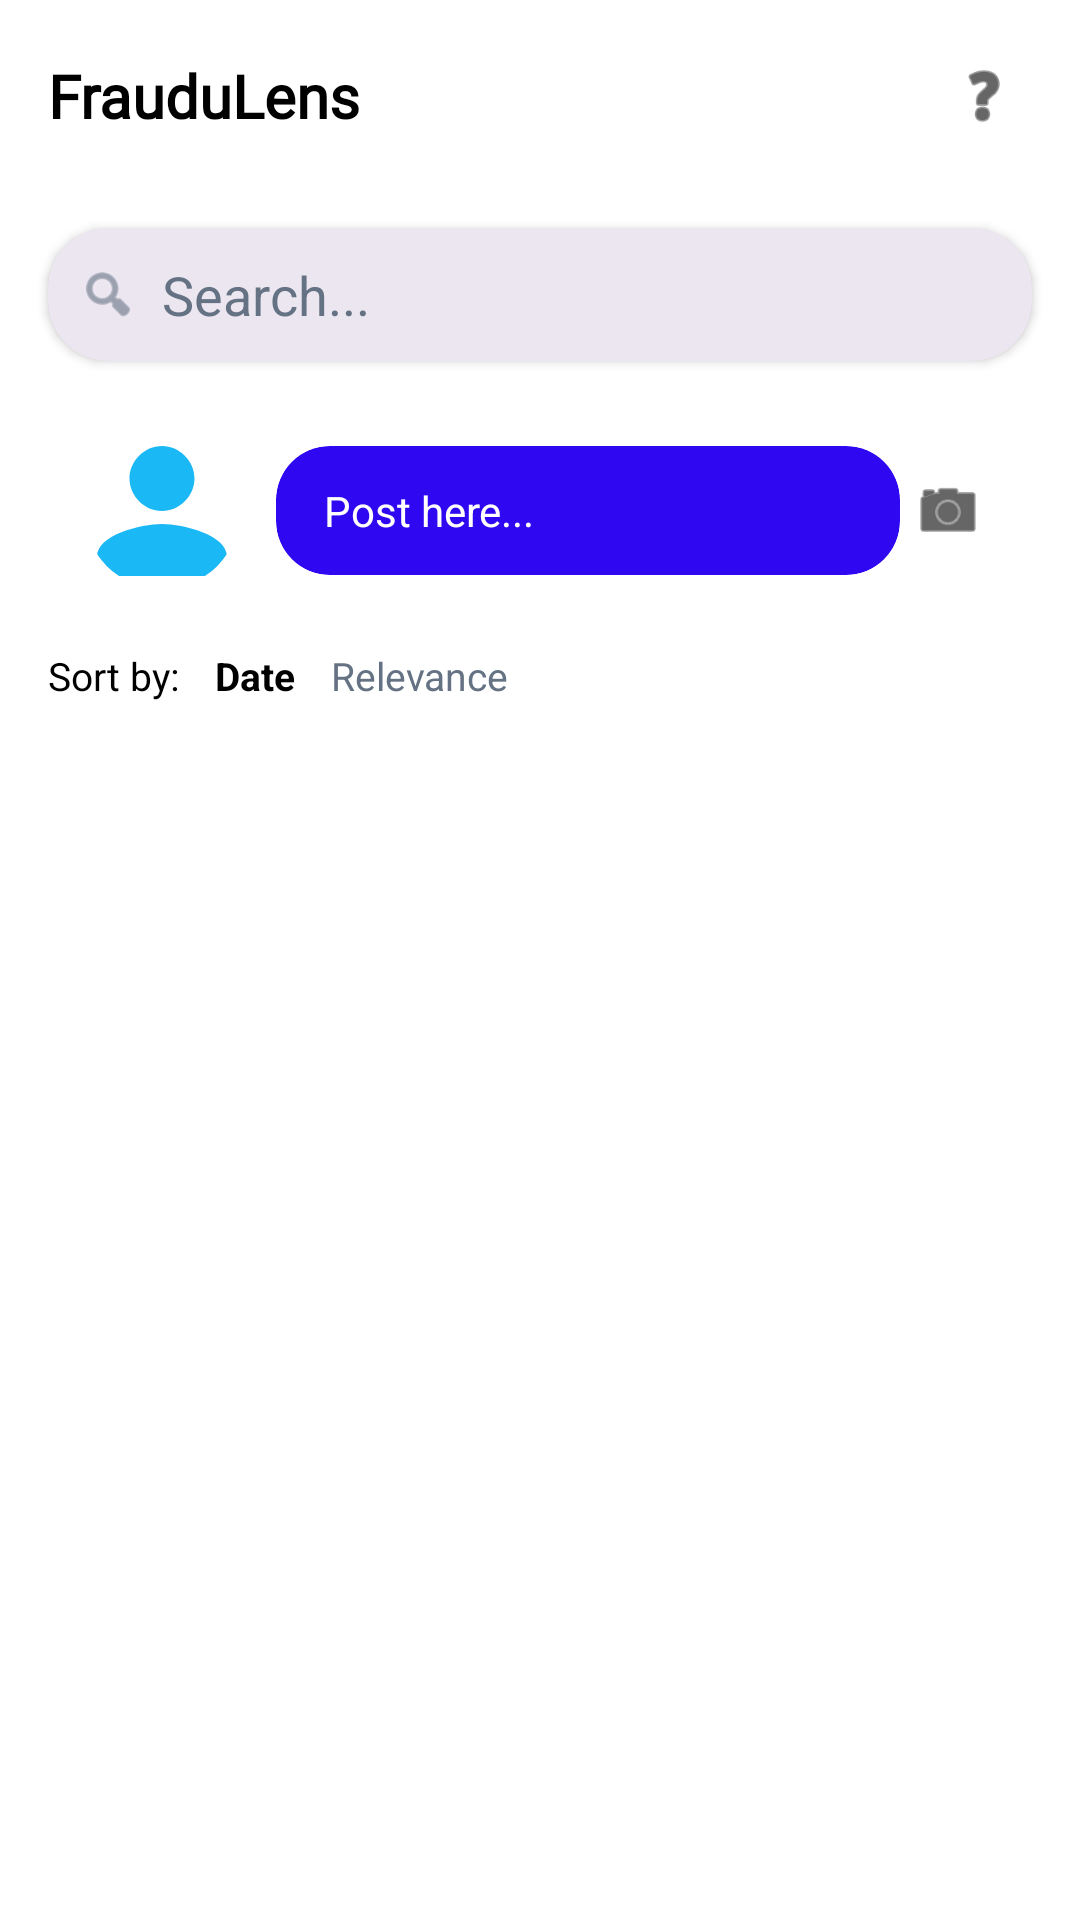

Screen size 1080x1920. Icon name, then its box in pixels as Rect(x1, y1, x2, y2):
camera: Rect(920, 488, 976, 532)
help: Rect(968, 70, 1000, 122)
profile: Rect(97, 446, 227, 576)
